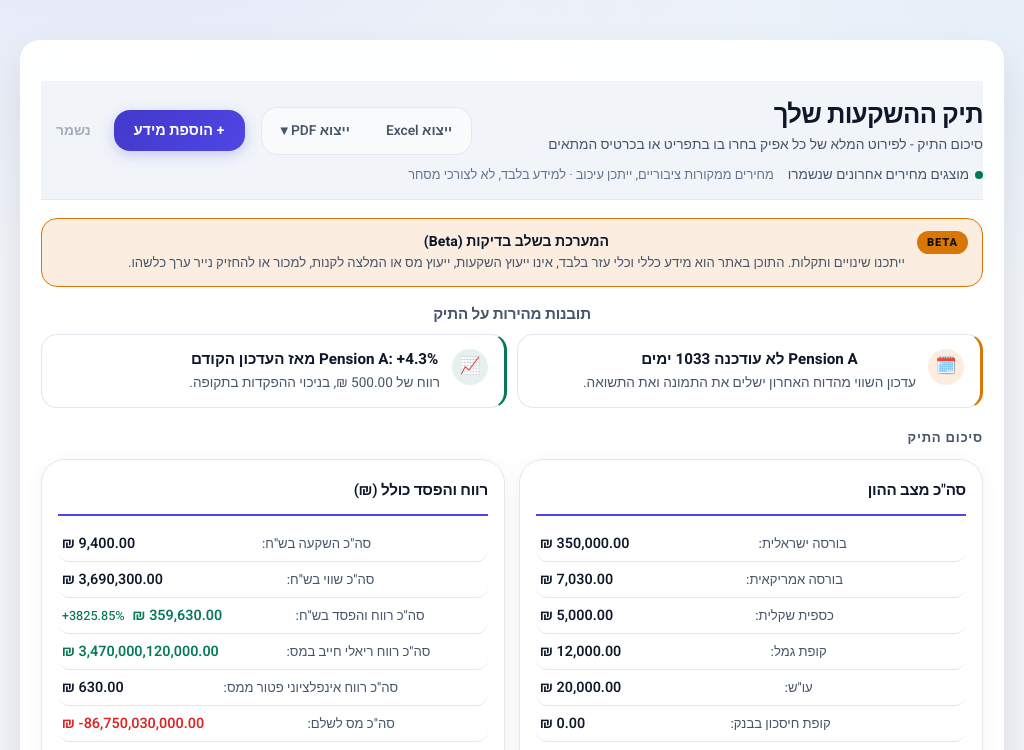
Scenario: shows an error message if the PDF export throws
Click the button "ייצוא PDF ▾" at (315, 131), box [266, 112, 365, 150]
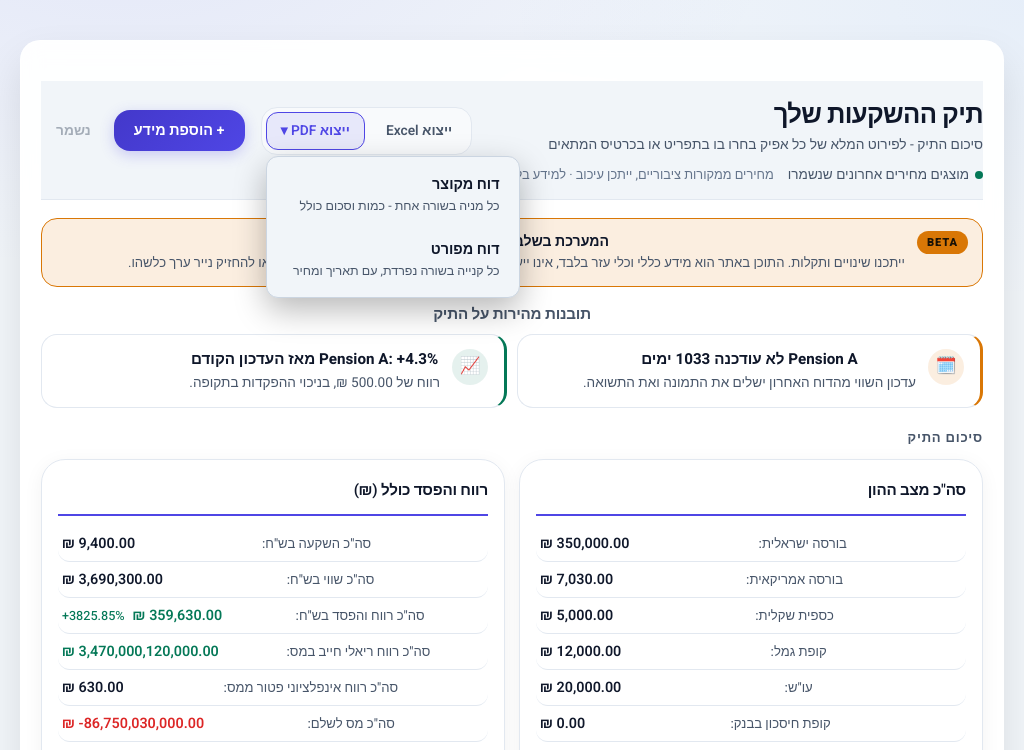
Click the text "דוח מפורט" at (465, 250), box [431, 239, 500, 260]
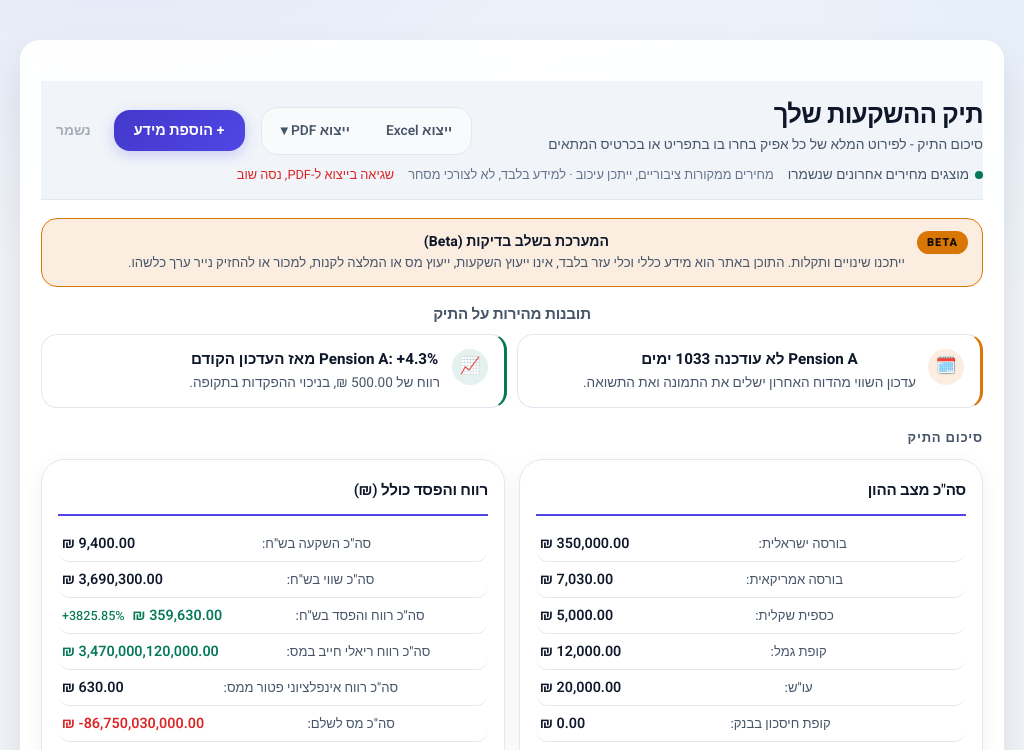
Expected: the text "שגיאה בייצוא ל-PDF, נסה שוב" is shown, [237, 166, 394, 184]
